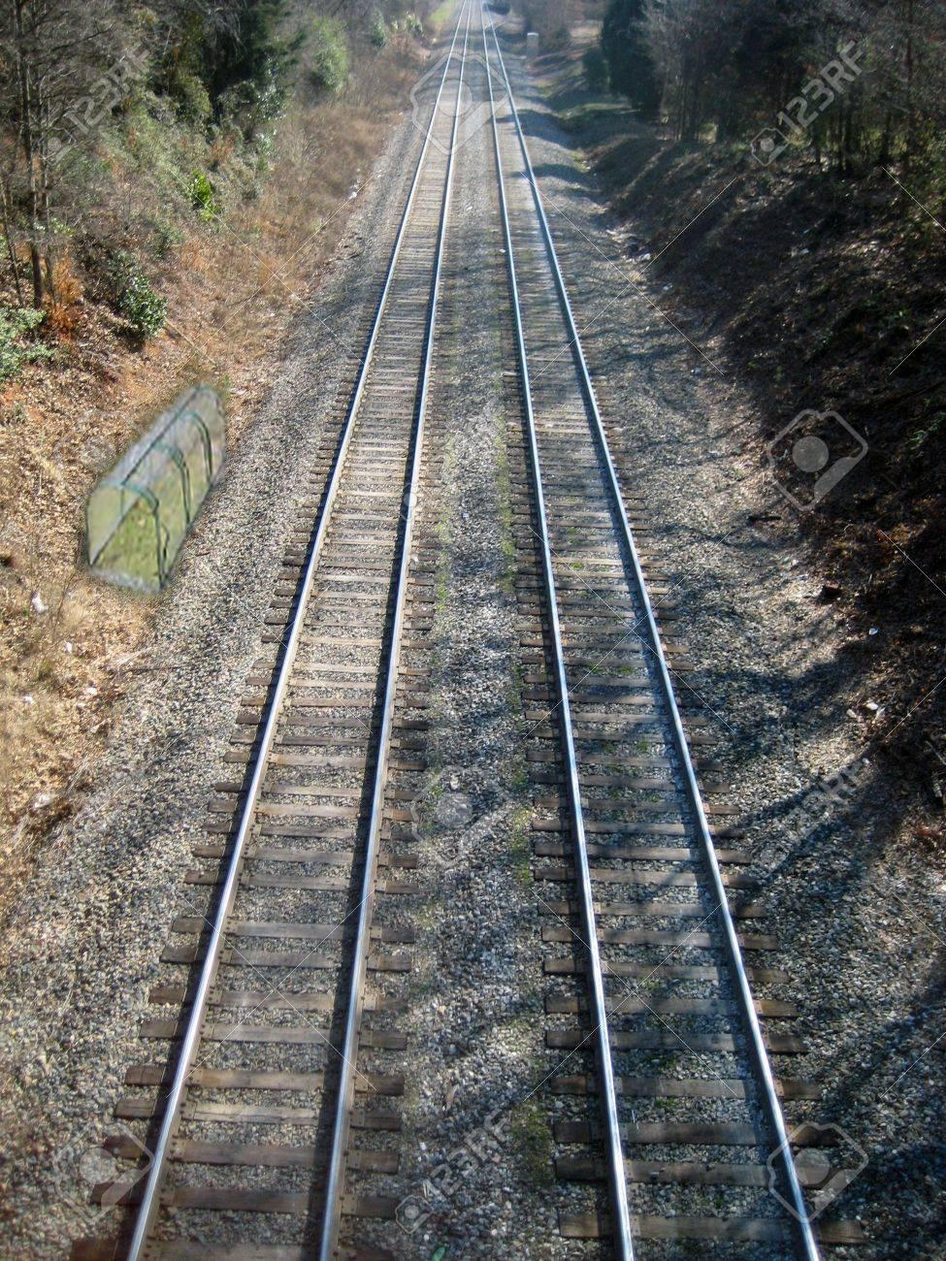Green_house: (87, 369, 235, 626)
